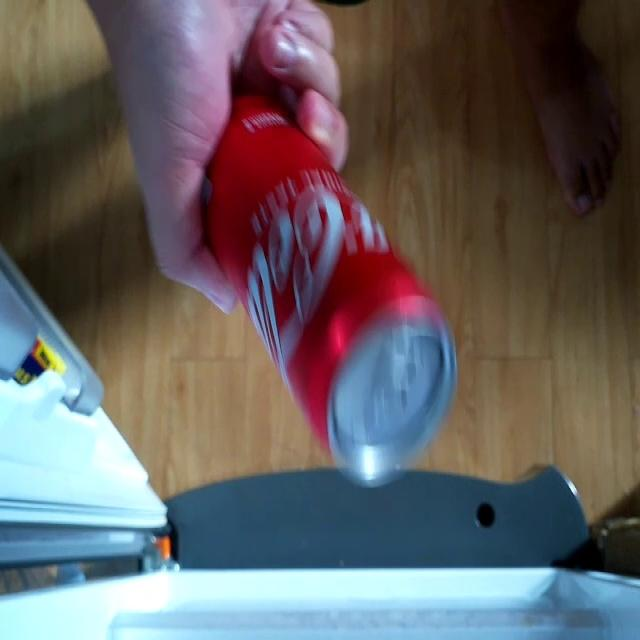coke: (192, 69, 460, 492)
